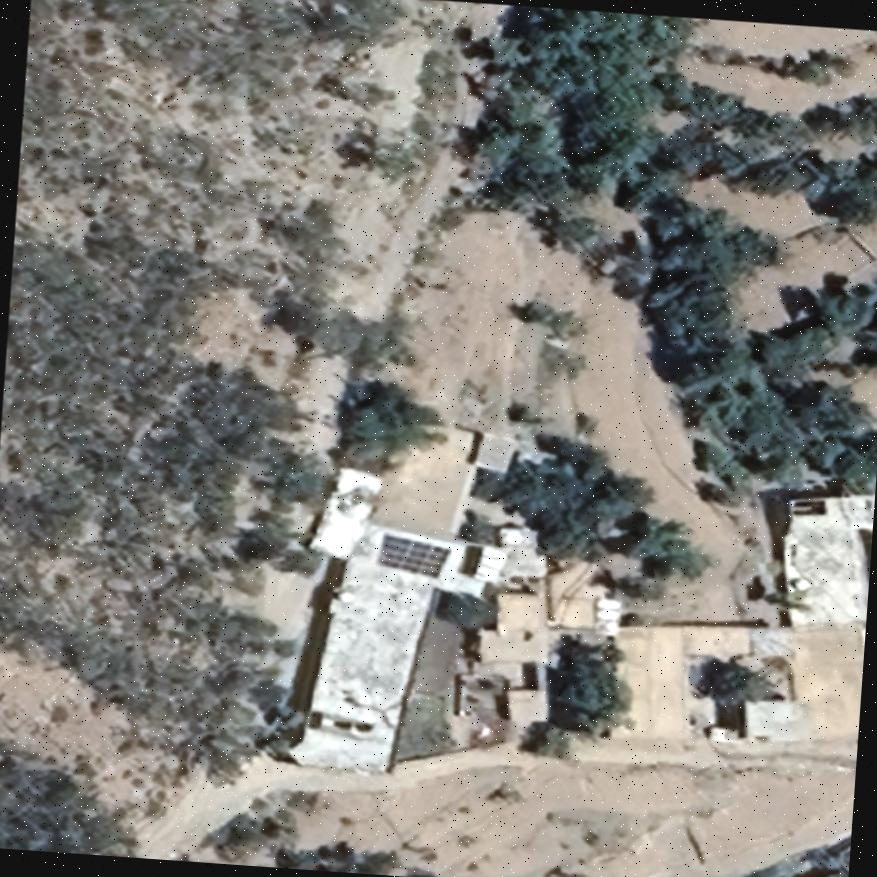Solarpanel: (372, 528, 454, 579)
